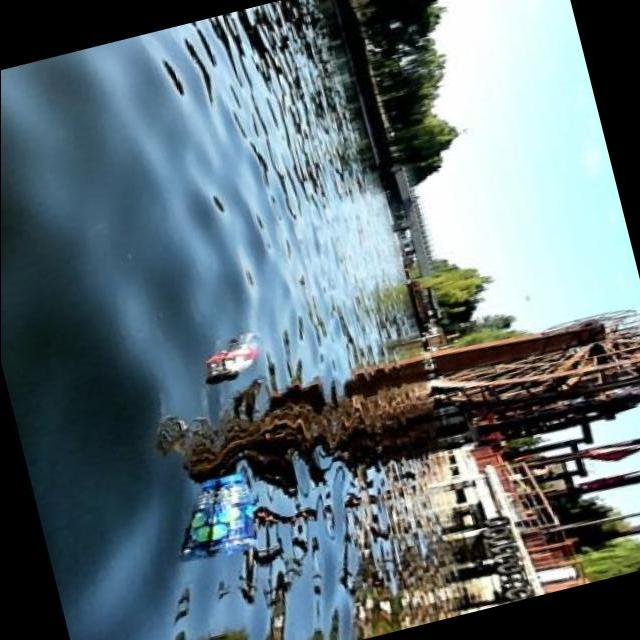Bottle: (200, 468, 256, 567), (209, 326, 269, 386)
